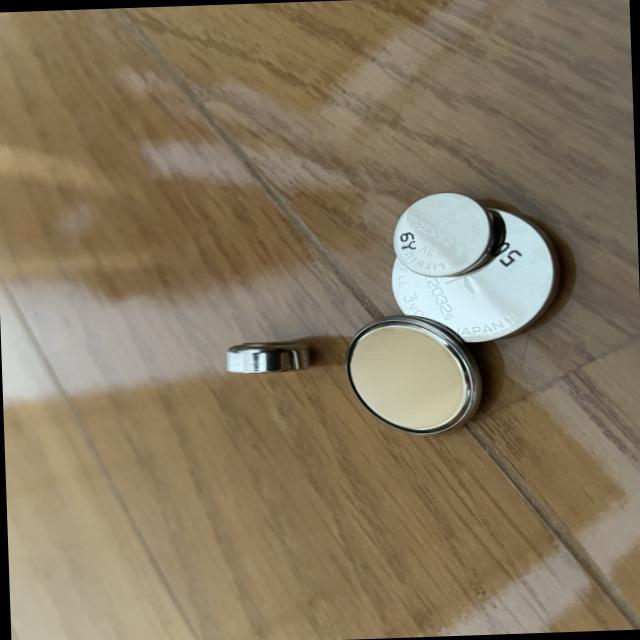COIN: (388, 200, 564, 344), (344, 310, 487, 440), (388, 189, 499, 280), (216, 336, 314, 376)
